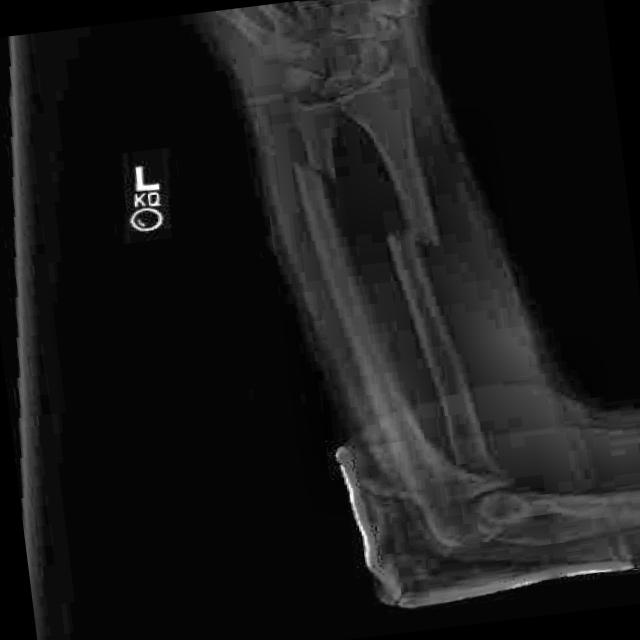forearm fracture: (357, 210, 472, 278), (275, 146, 359, 206)
